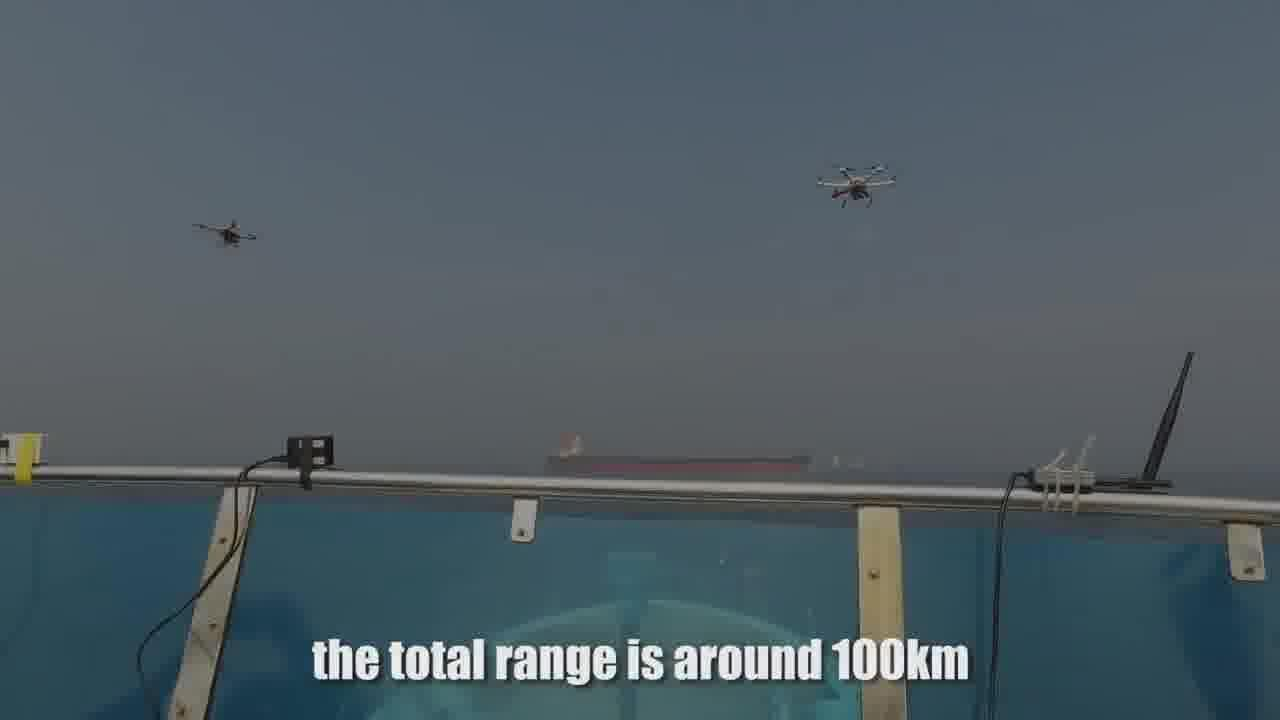drone: (800, 149, 905, 222), (187, 204, 275, 258)
